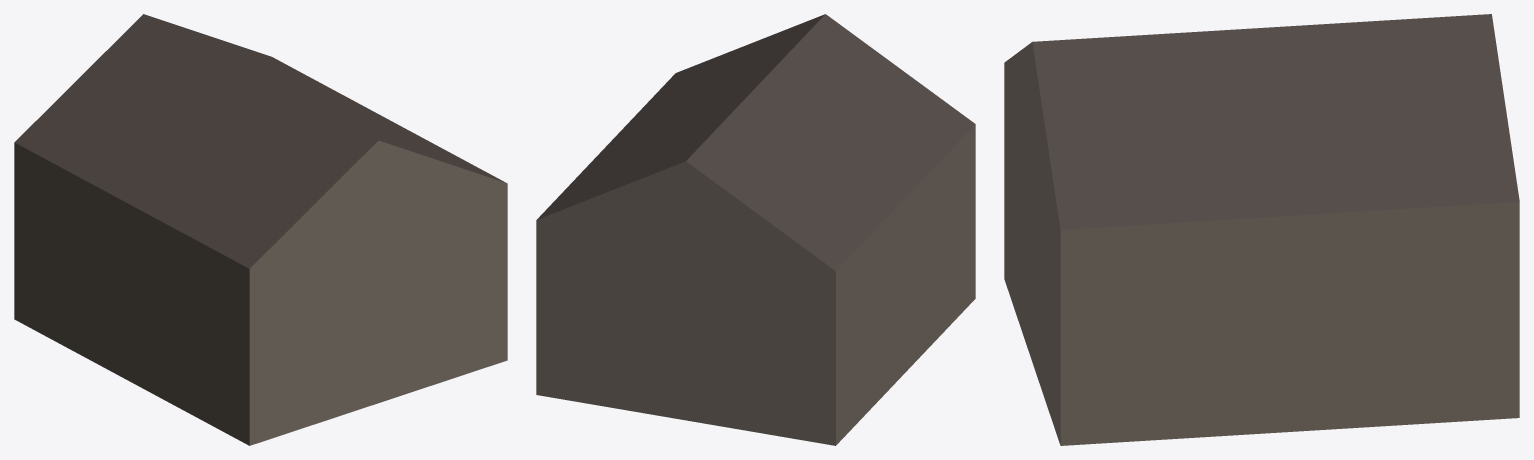
3 views of the same model, side by side, from view 1: azimuth 30°, elevation 25°; view 2: azimuth 150°, elevation 25°; view 3: azimuth 270°, elevation 25° (orthographic). The views are drawn at different scales.
Visible parts, largest first — view 1: HP-w859457499; view 2: HP-w859457499; view 3: HP-w859457499.
Boxes of the visible parts, box(x1,y1,x2,y2) form: HP-w859457499: box(14, 14, 507, 445); HP-w859457499: box(536, 14, 975, 445); HP-w859457499: box(1004, 14, 1519, 445).
Bounding box in the file's own units: 11.62 × 8.91 × 12.98.
